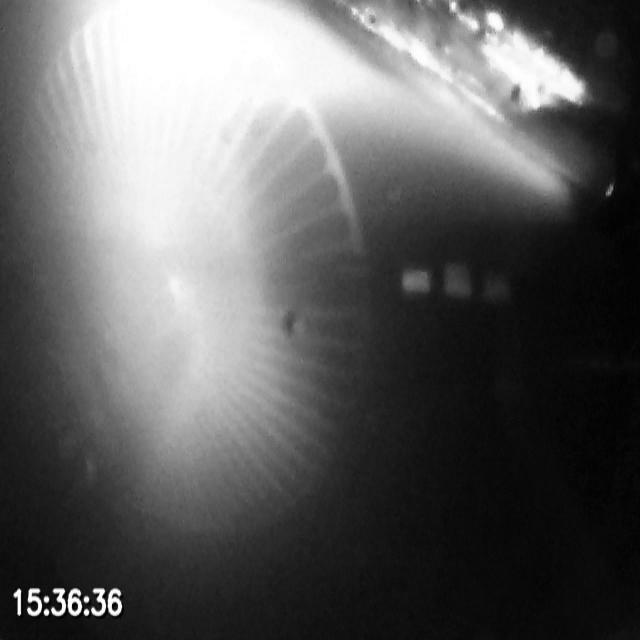white-dots: (401, 262, 514, 306)
